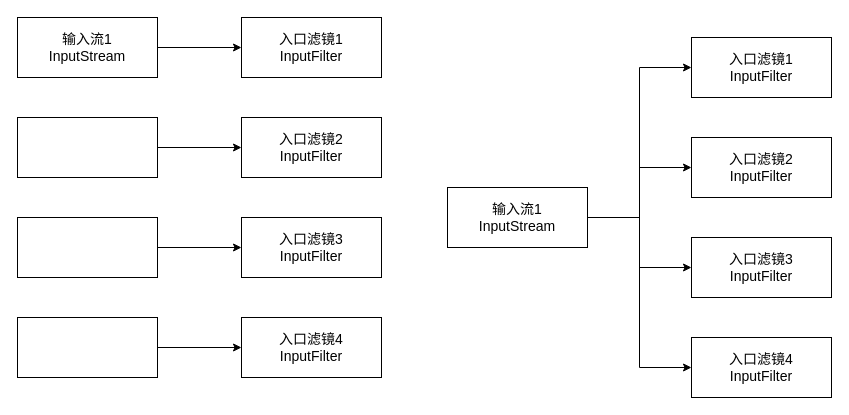
Some shapes in this 849 by 415 pixel diagram are drawn without their labels. Here are the shapes that lost their labels. From the top down, the centre of each, then its label:
At point 87,147: "输入流2 InputStream".
At point 87,247: "输入流3 InputStream".
At point 87,347: "输入流4 InputStream".
